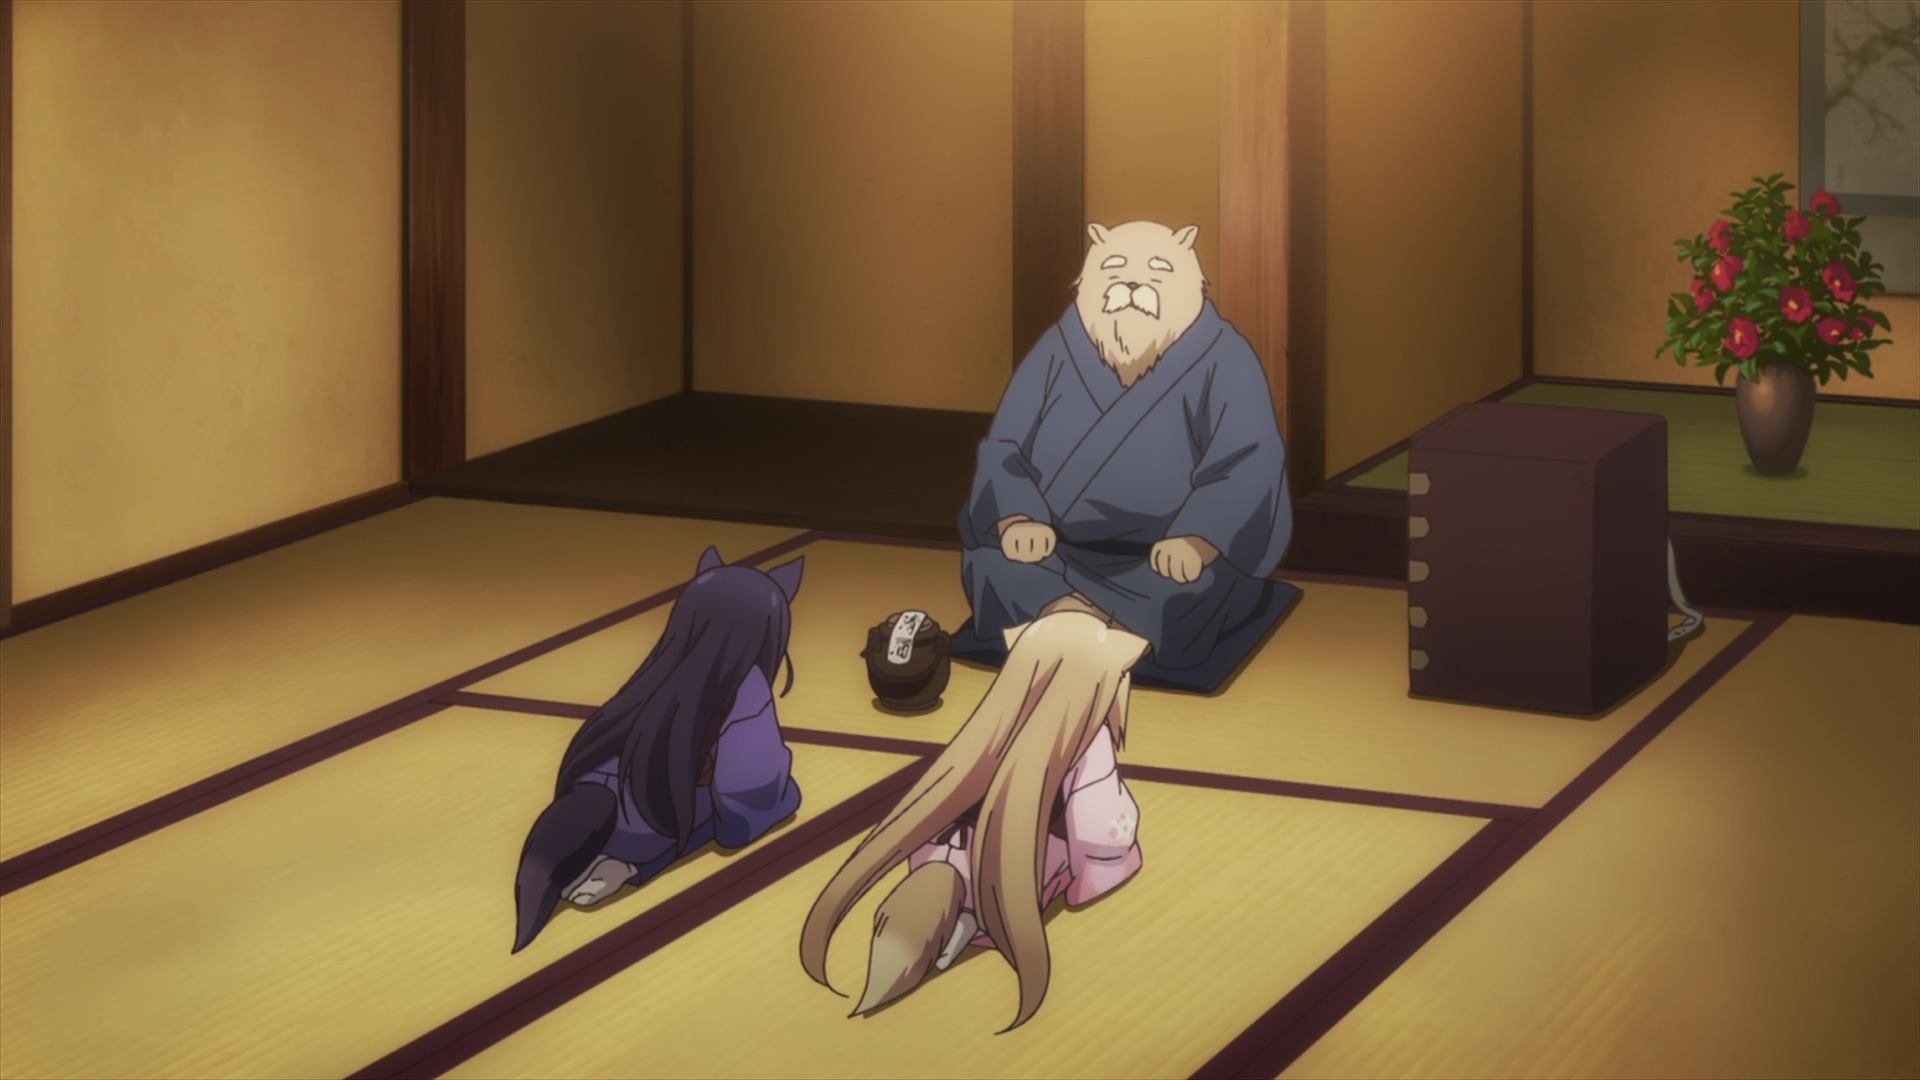柚: (799, 609, 1149, 1036)
皋: (510, 545, 810, 953)
药店老板: (953, 220, 1298, 673)
